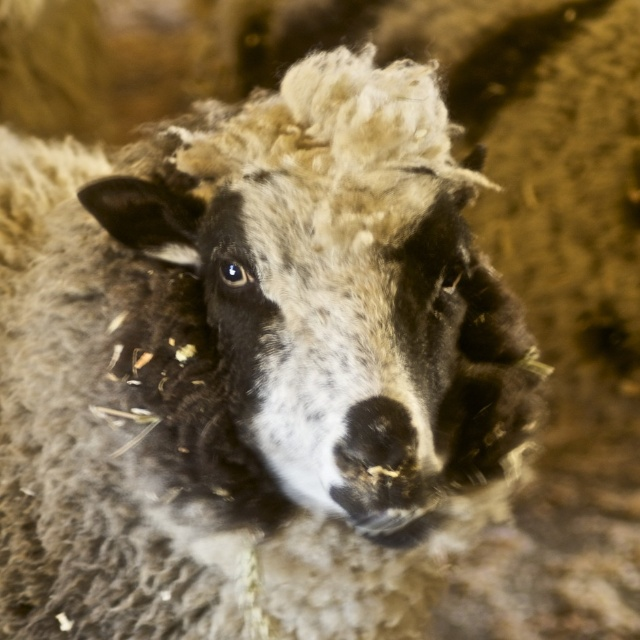Sheep: (20, 12, 570, 621)
